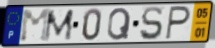0: (82, 6, 104, 42)
M: (19, 8, 52, 44), (43, 8, 75, 43)
P: (164, 5, 192, 41)
Q: (106, 7, 132, 42)
S: (139, 5, 164, 42)
